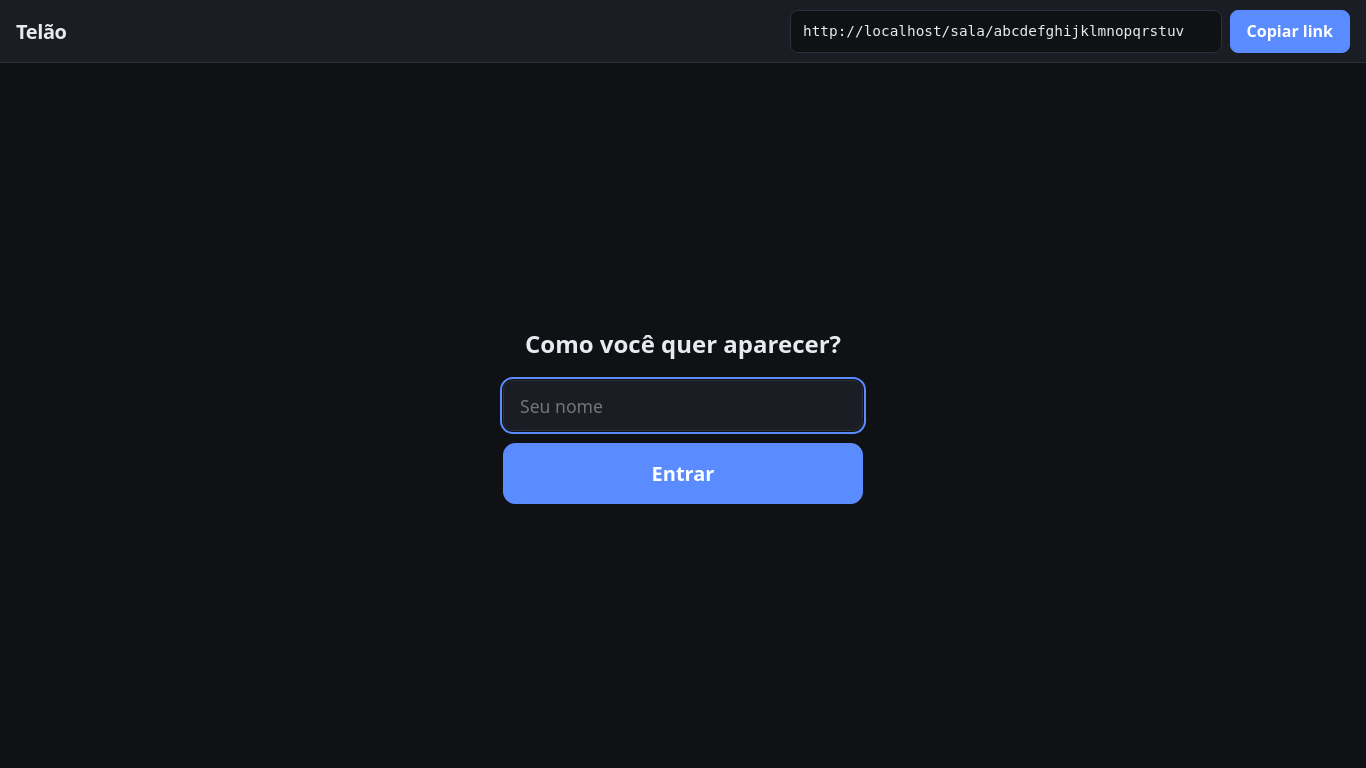
Test: Entrar na sala pelo link › não deixa entrar sem nome
Expected: the field labelled "Seu nome" is shown, [503,380,863,432]
Click the button "Entrar". click: click(683, 474)
box: [503,444,863,504]
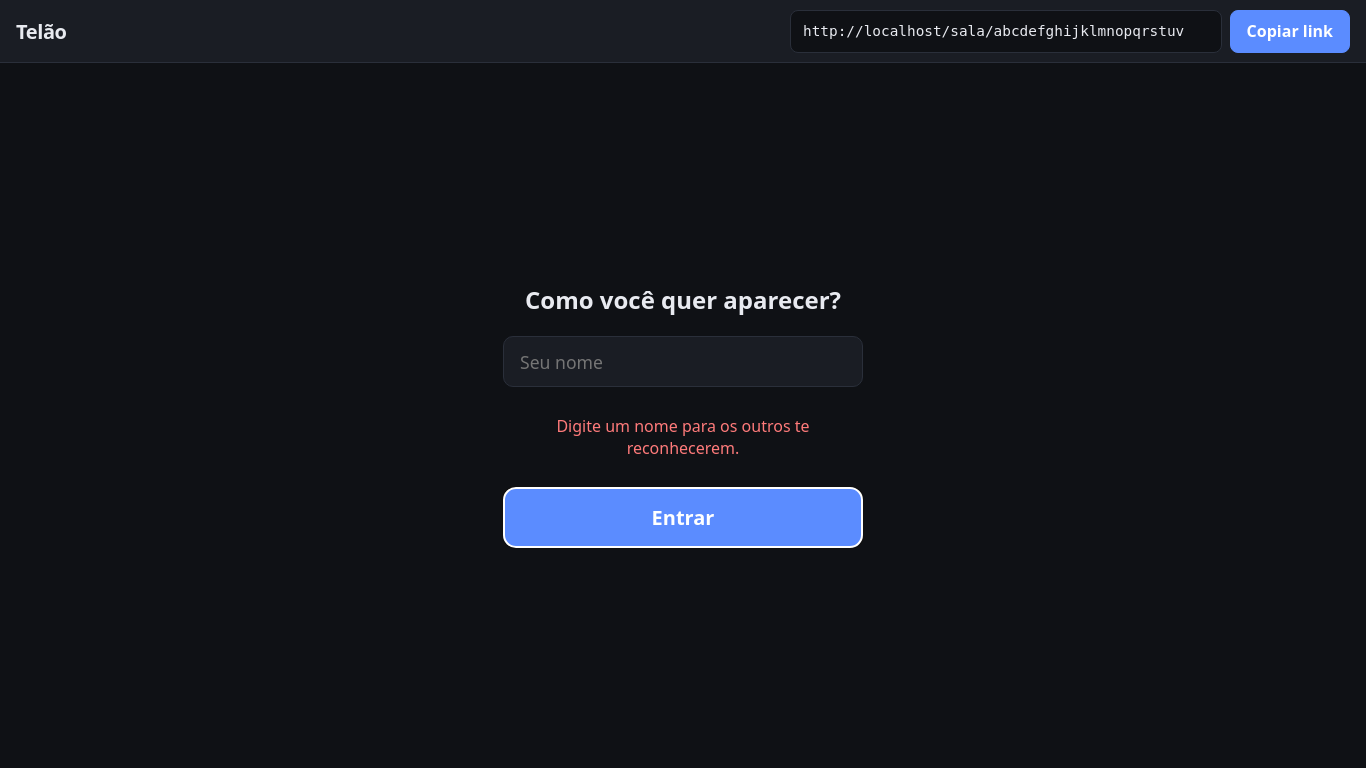
Now the message shows "Digite um nome", box [556,416,810,460]
